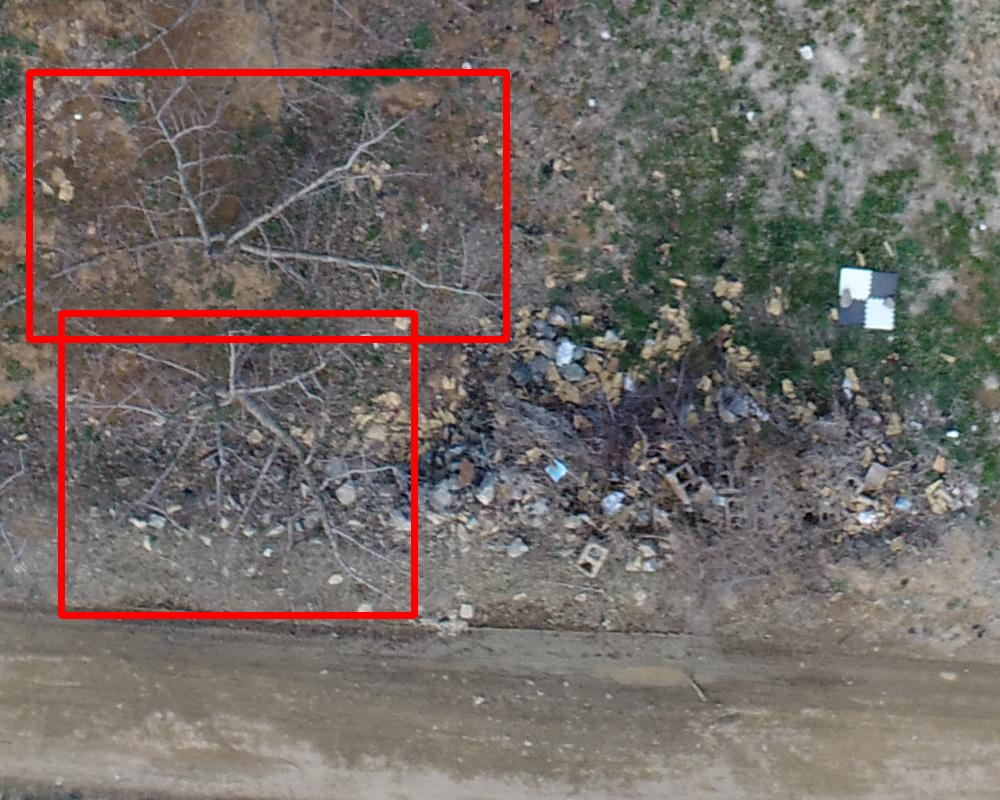apple: (29, 72, 506, 339), (61, 313, 414, 615)
